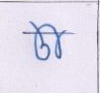i_matra: (43, 23, 65, 59)
